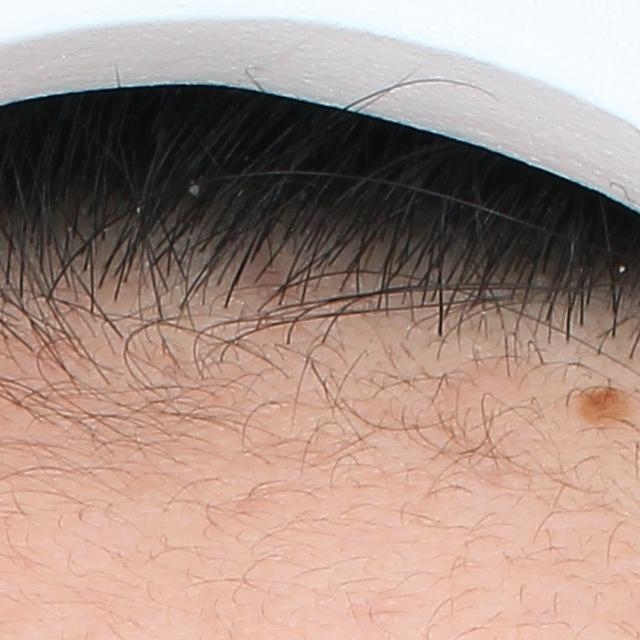nevus: (569, 384, 628, 430)
